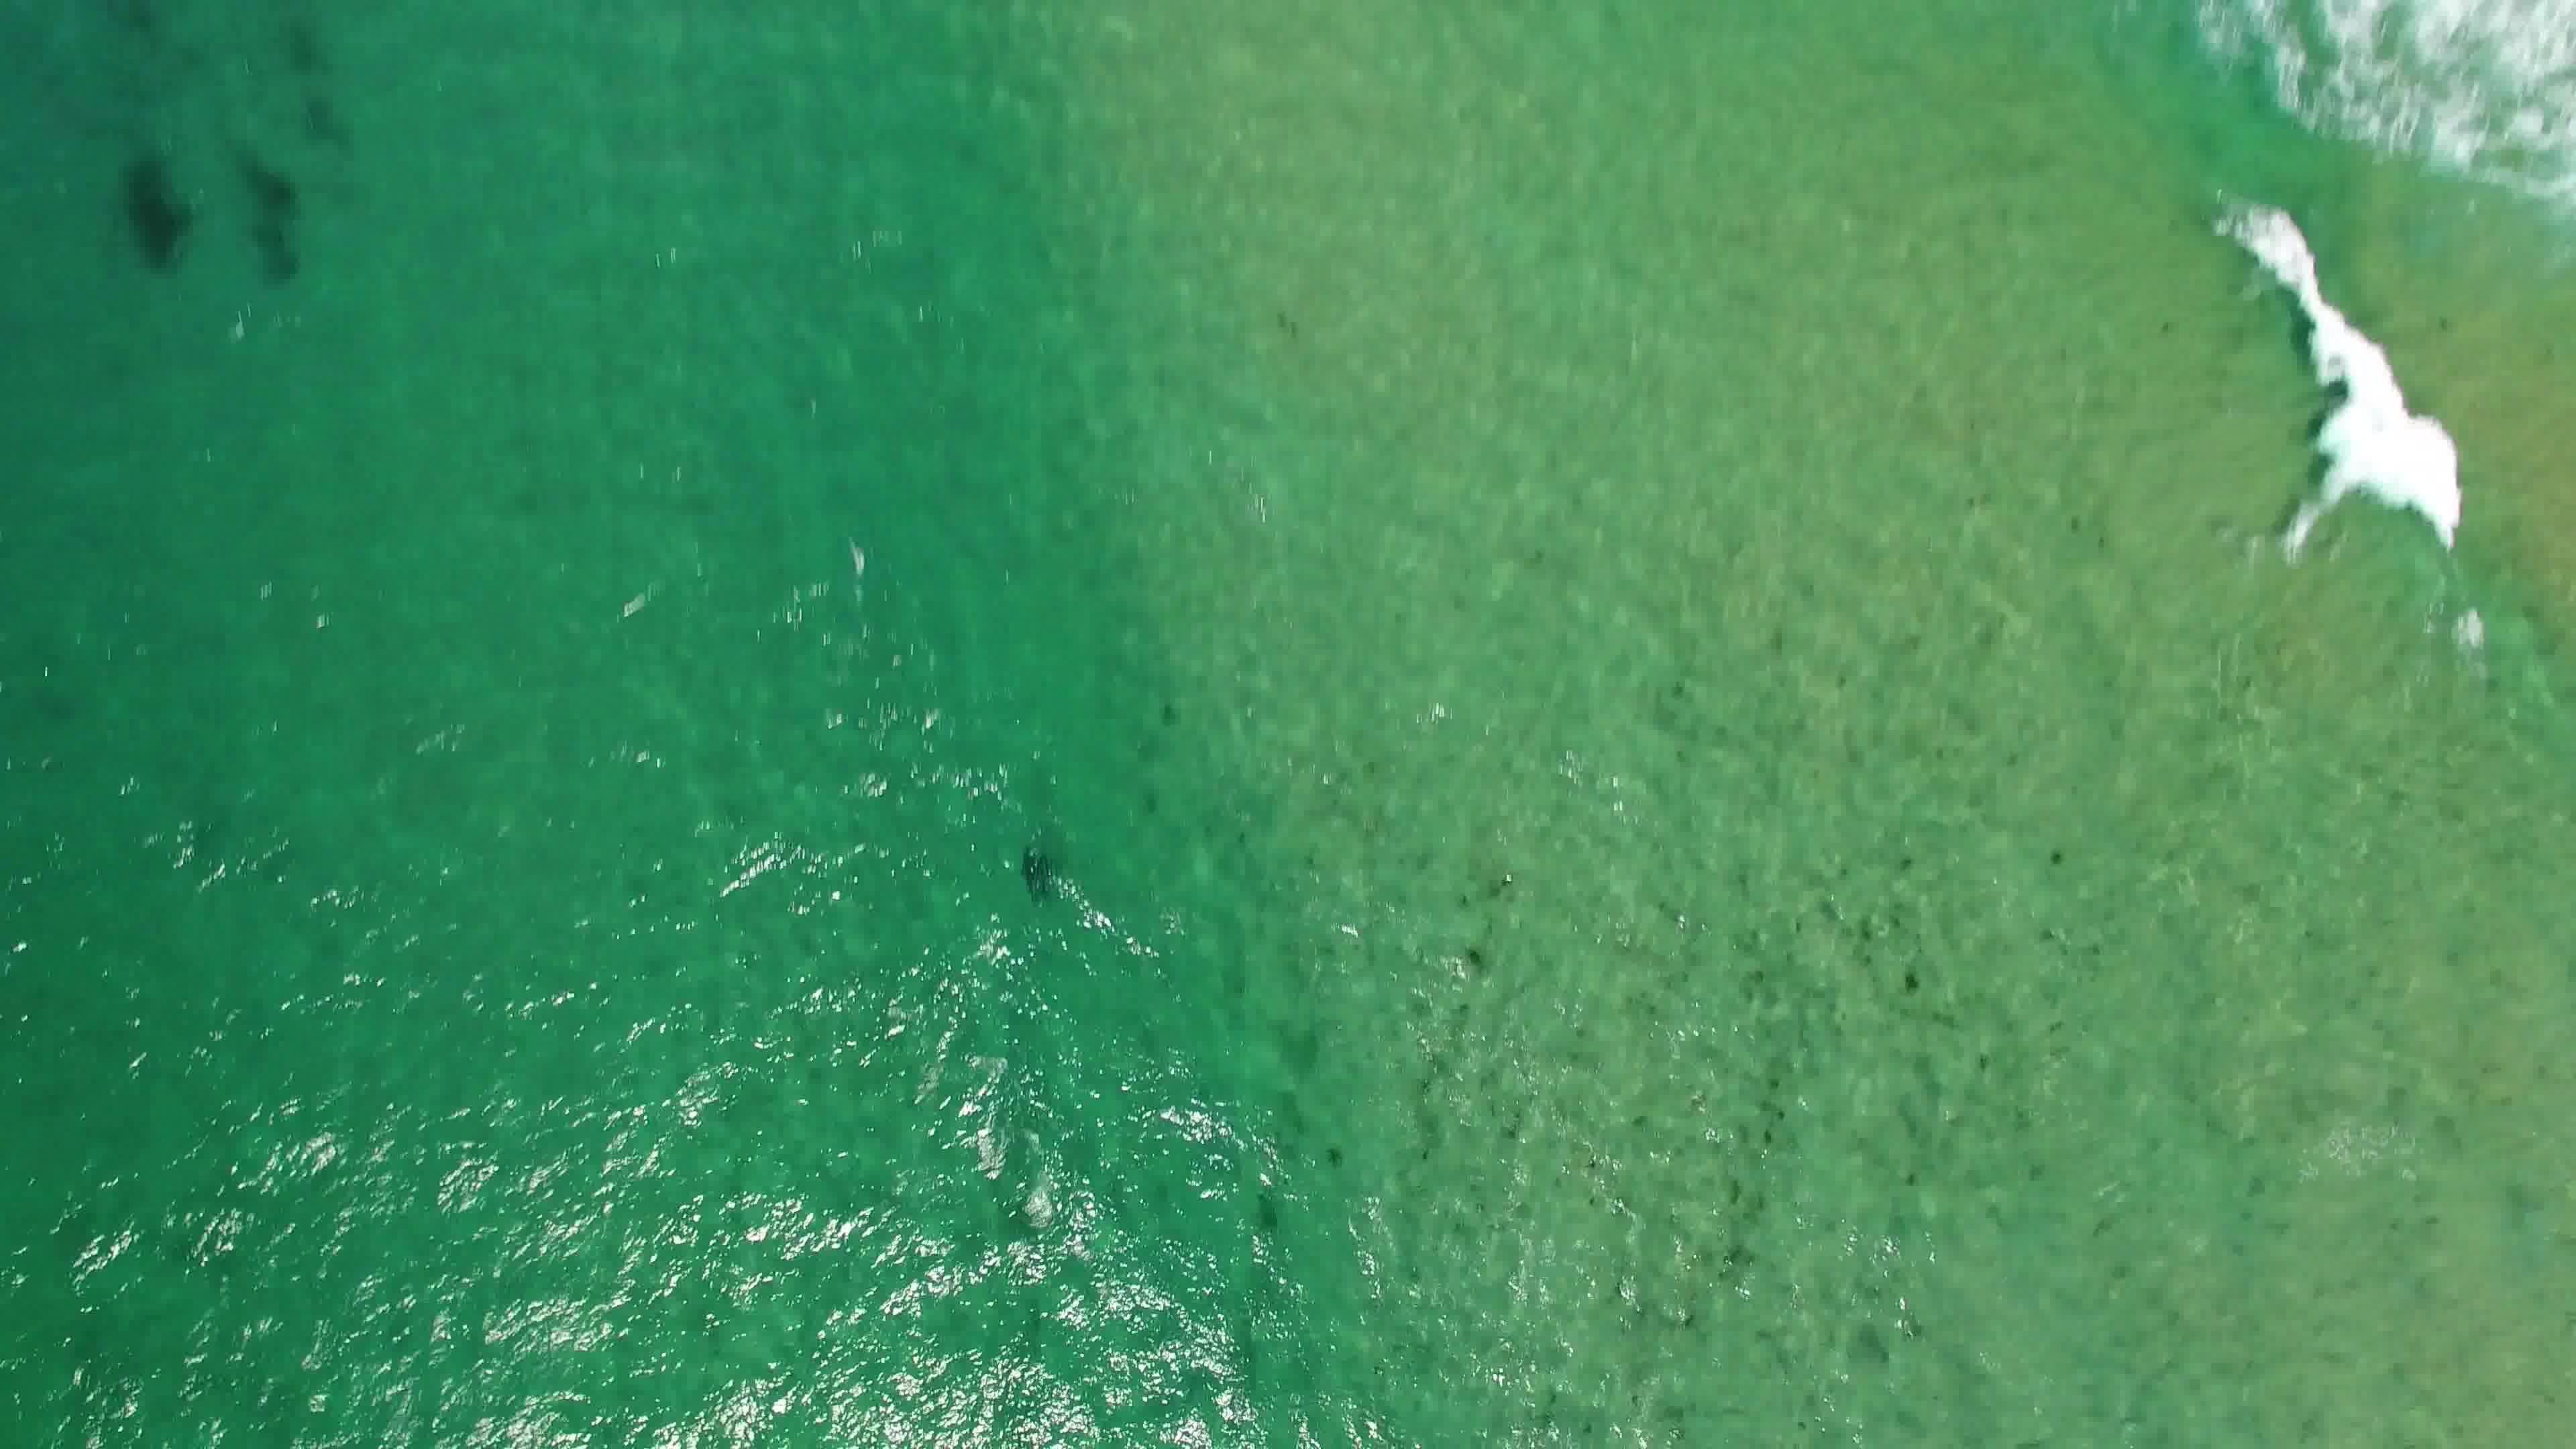shark: (1014, 844, 1060, 908)
